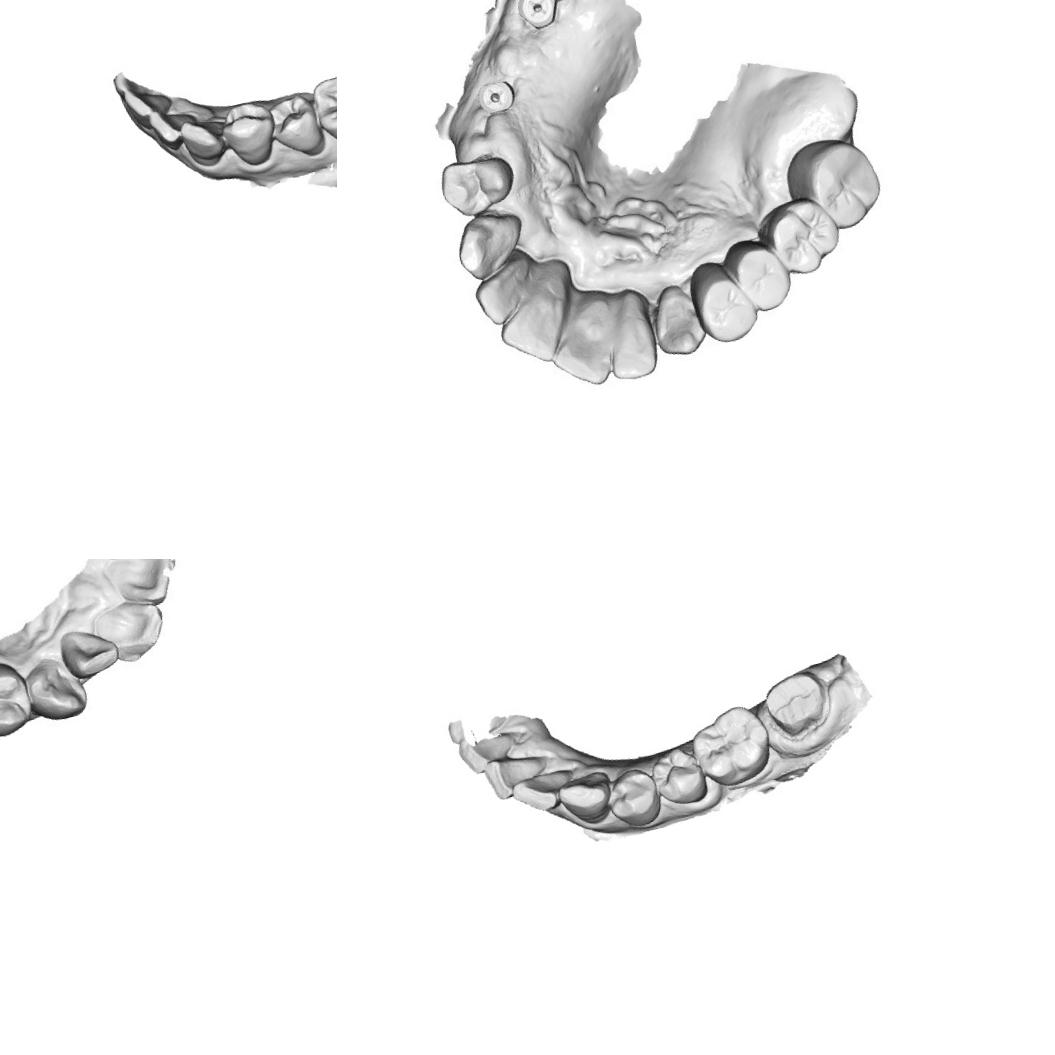canine: (19, 646, 109, 740), (450, 206, 536, 284), (645, 279, 714, 364), (175, 109, 235, 172), (556, 768, 615, 830)
crown: (756, 665, 838, 745)
implant_plus: (472, 70, 518, 118), (513, 0, 561, 30)
incisor: (494, 275, 579, 367), (545, 296, 624, 392), (598, 290, 663, 386), (99, 594, 173, 668), (478, 744, 558, 804), (505, 764, 585, 820), (452, 722, 526, 782), (474, 266, 550, 322), (57, 620, 122, 682), (115, 81, 178, 142), (146, 97, 206, 159), (111, 559, 181, 611)
molar: (797, 130, 886, 236), (683, 697, 778, 794), (761, 194, 845, 281), (305, 56, 337, 153)
premolar: (689, 260, 763, 348), (435, 148, 520, 222), (726, 236, 797, 318), (644, 738, 714, 812), (263, 88, 330, 164), (218, 99, 282, 176), (600, 762, 668, 834), (0, 657, 27, 733)
